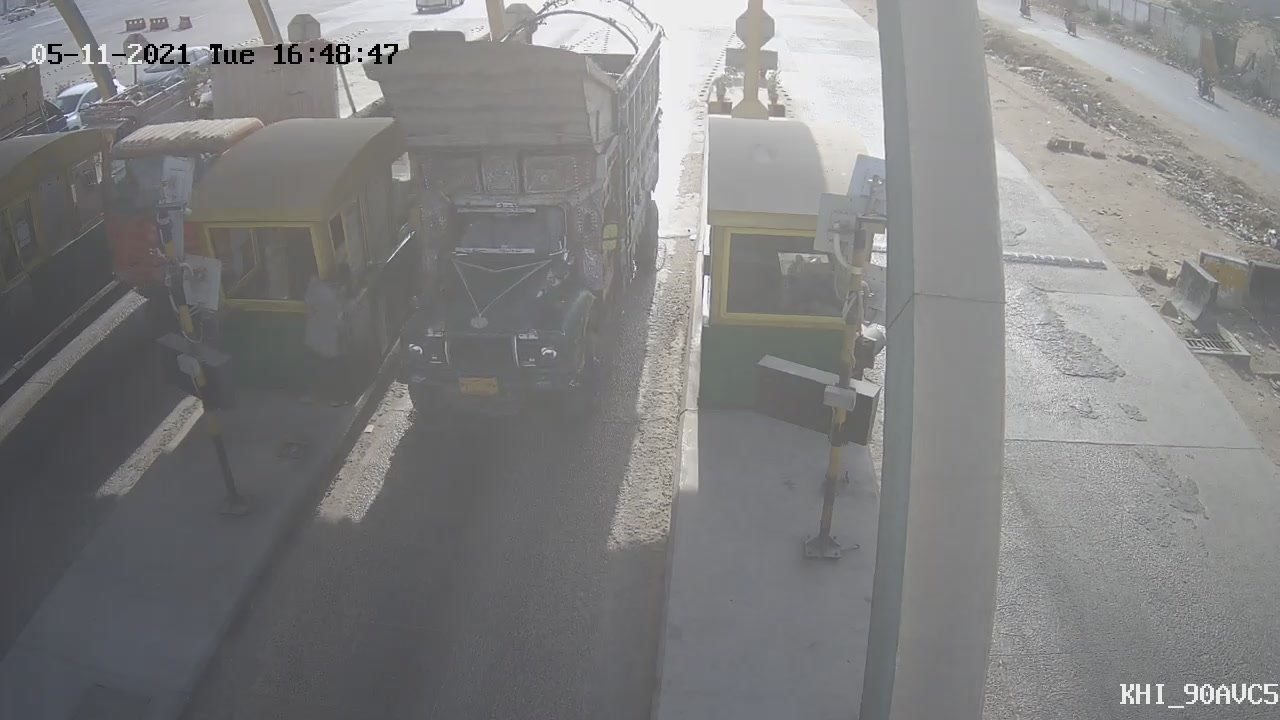F5: (360, 4, 683, 449)
